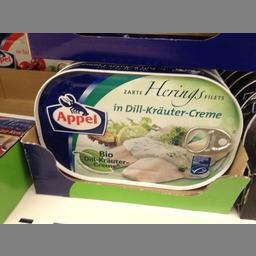fish: (32, 64, 245, 187)
